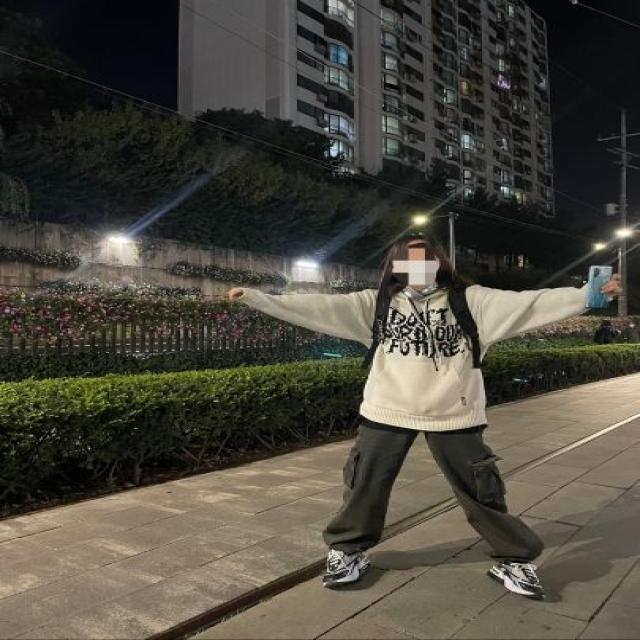denimpants: (324, 411, 544, 560)
hoodies: (242, 287, 604, 437)
